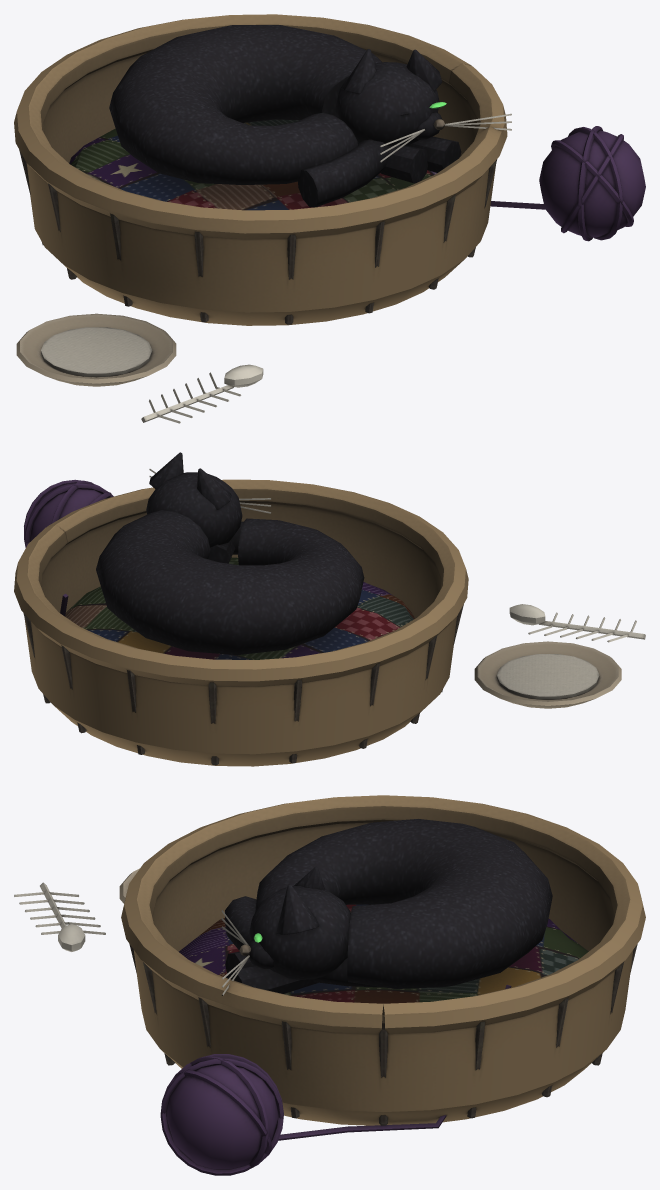
File: CatBasket.fbx
3 renders of one model, top to bottom at view 1: azimuth 30°, elevation 25°; view 2: azimuth 150°, elevation 25°; view 3: azimuth 270°, elevation 25°, orthographic. The views are drawn at different scales.
Parts seen in each view (by area): view 1: CatBasket_Main; view 2: CatBasket_Main; view 3: CatBasket_Main.
Boxes of the visible parts, left/top/right/bottom form: CatBasket_Main: left=14, top=14, right=645, bottom=423; CatBasket_Main: left=14, top=452, right=645, bottom=766; CatBasket_Main: left=14, top=795, right=645, bottom=1175.
Size of the model in its own units: 424 by 130 by 353.
